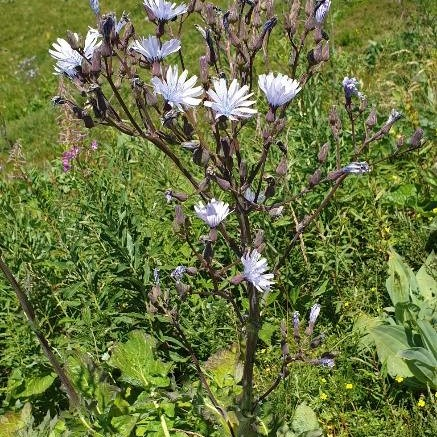obstacle: (50, 33, 323, 306), (12, 221, 224, 409)
